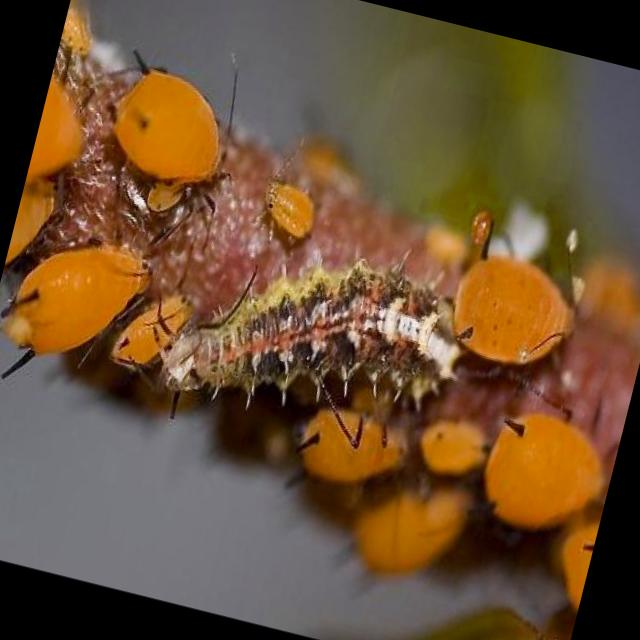aphid: (58, 38, 270, 245), (0, 185, 166, 402), (430, 218, 605, 389), (258, 358, 428, 534), (456, 393, 624, 571), (94, 259, 216, 398), (242, 166, 338, 261)
